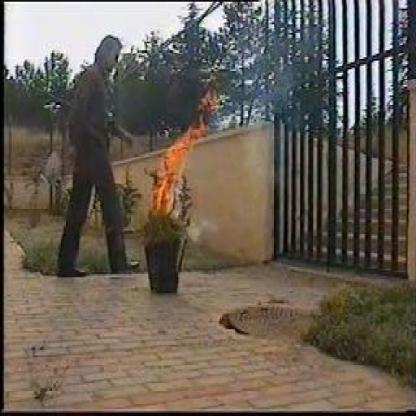foggia-v2-map80-epoch100 - v1 4323: (156, 124, 185, 205)
